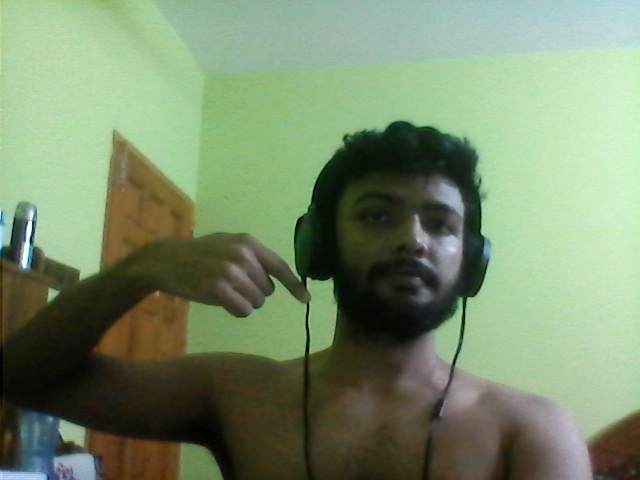I: (161, 217, 313, 339)
